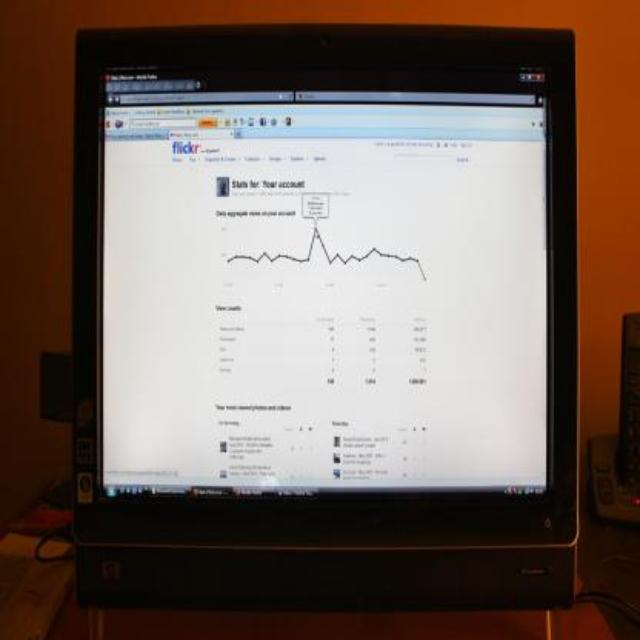Flat-Panel-Monitor: (64, 16, 596, 598)
